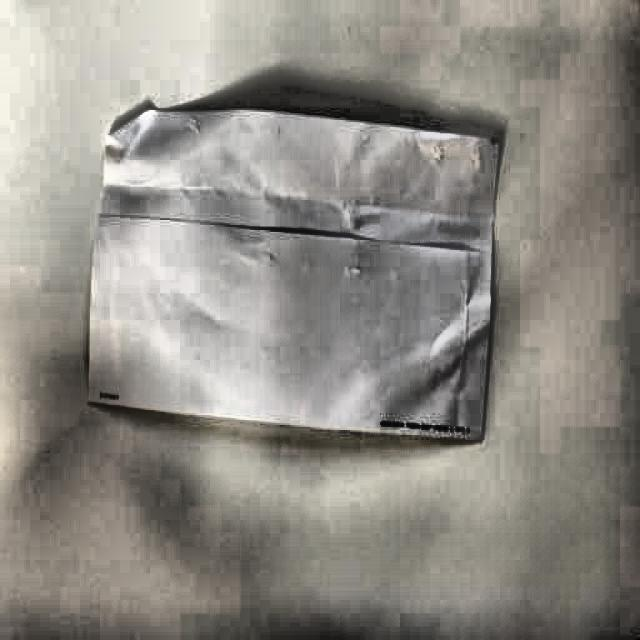paper: (88, 103, 499, 454)
